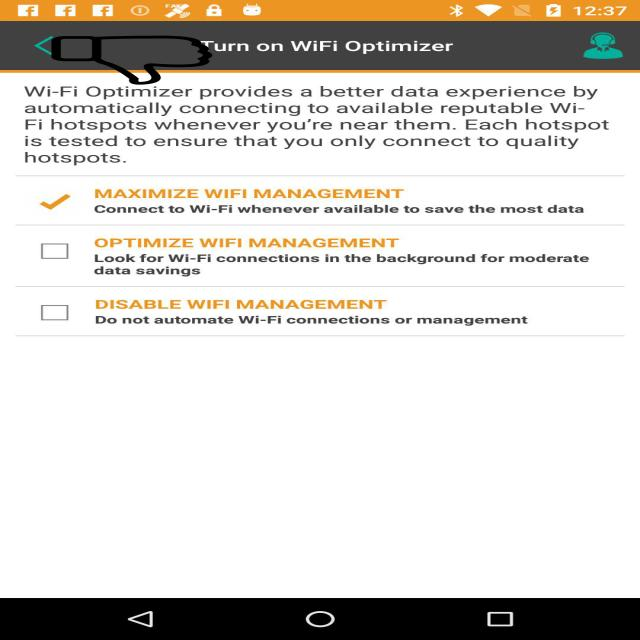obstruction: (49, 36, 215, 84)
